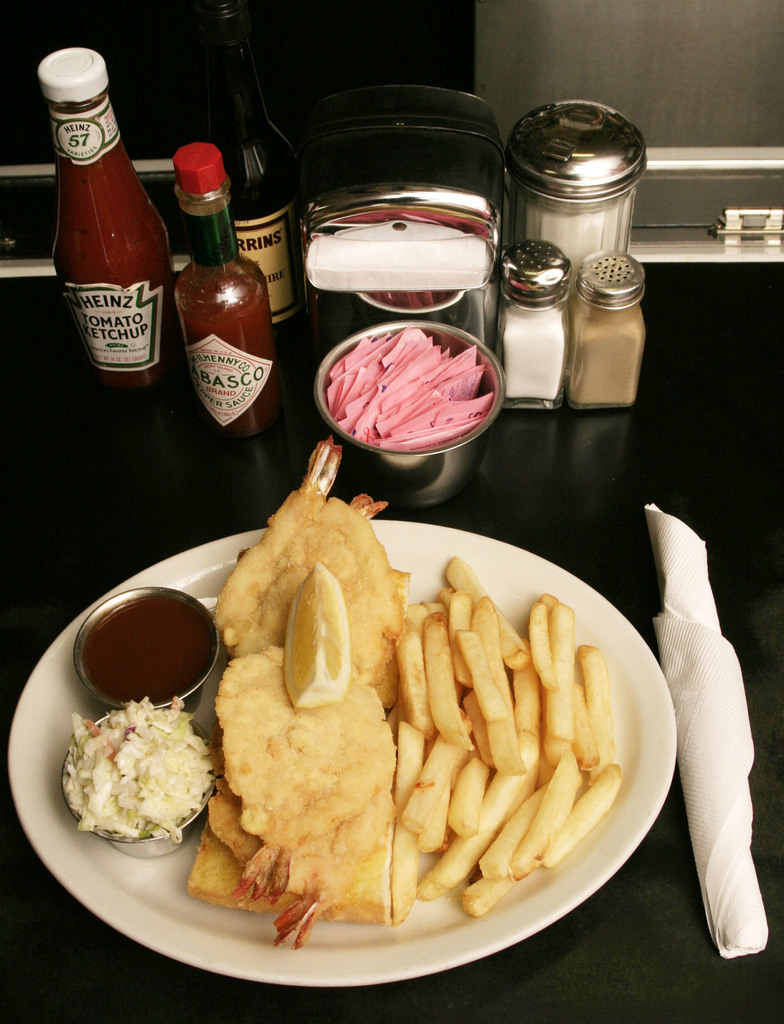French fries: (321, 577, 654, 901)
